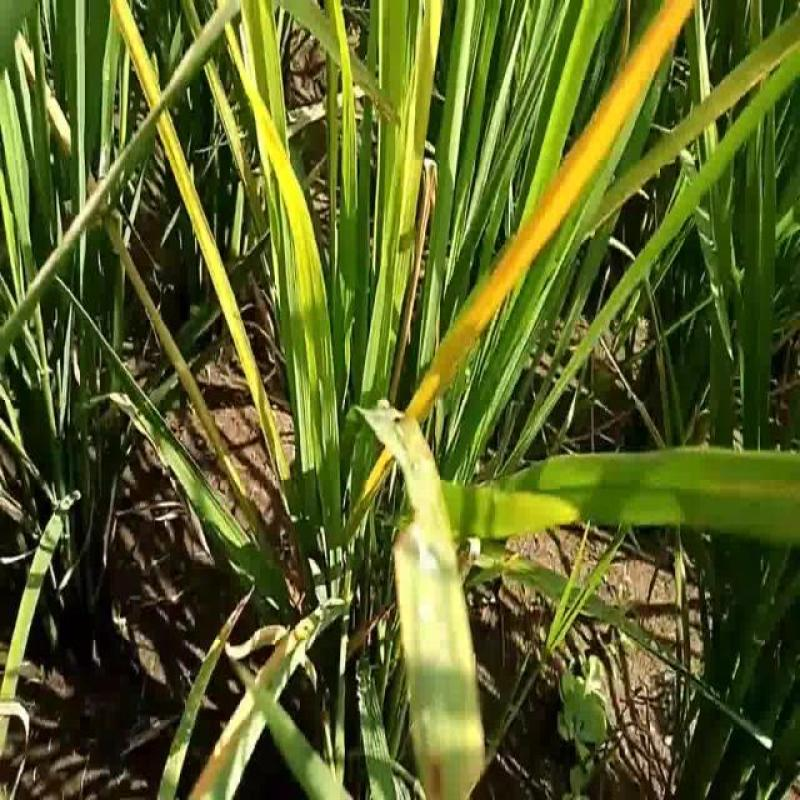Rice Tungro: (425, 1, 699, 404), (110, 1, 271, 439), (211, 1, 335, 344)
